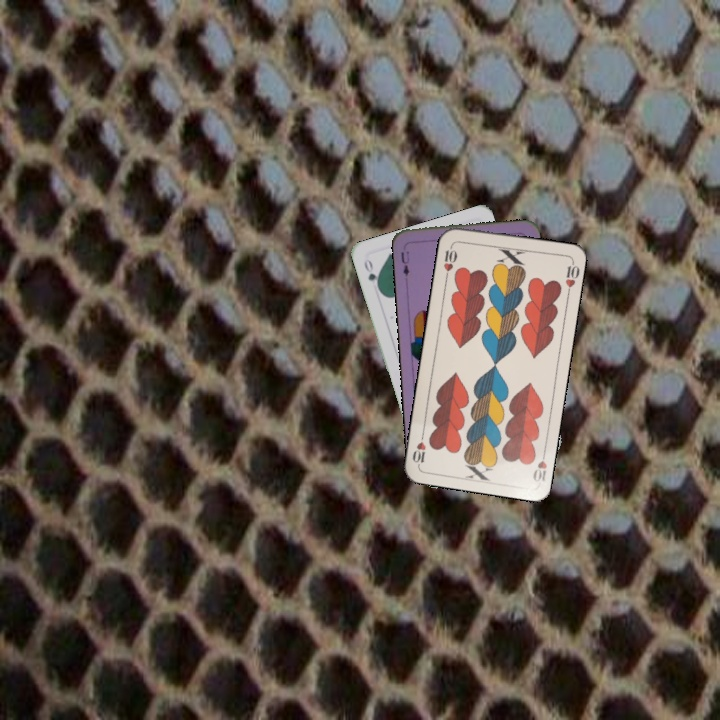EU: (397, 247, 412, 278)
GO: (360, 255, 383, 293)
H10: (439, 240, 460, 280), (529, 445, 549, 485)
